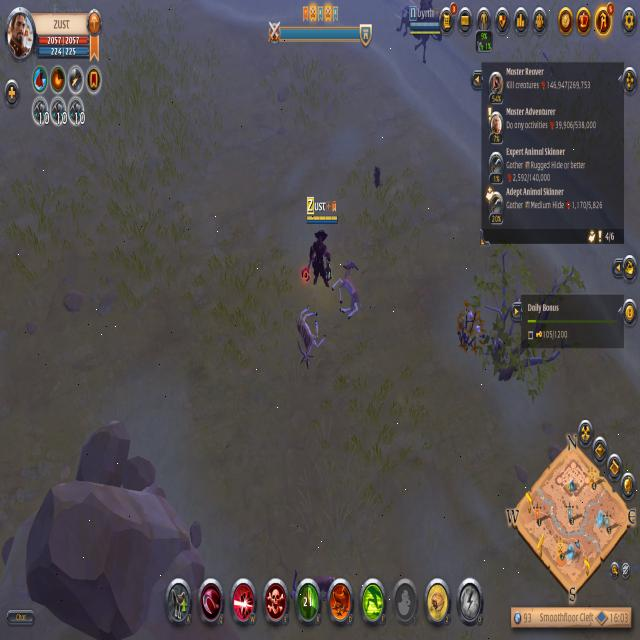deer_dead: (290, 304, 328, 379), (332, 262, 369, 328)
